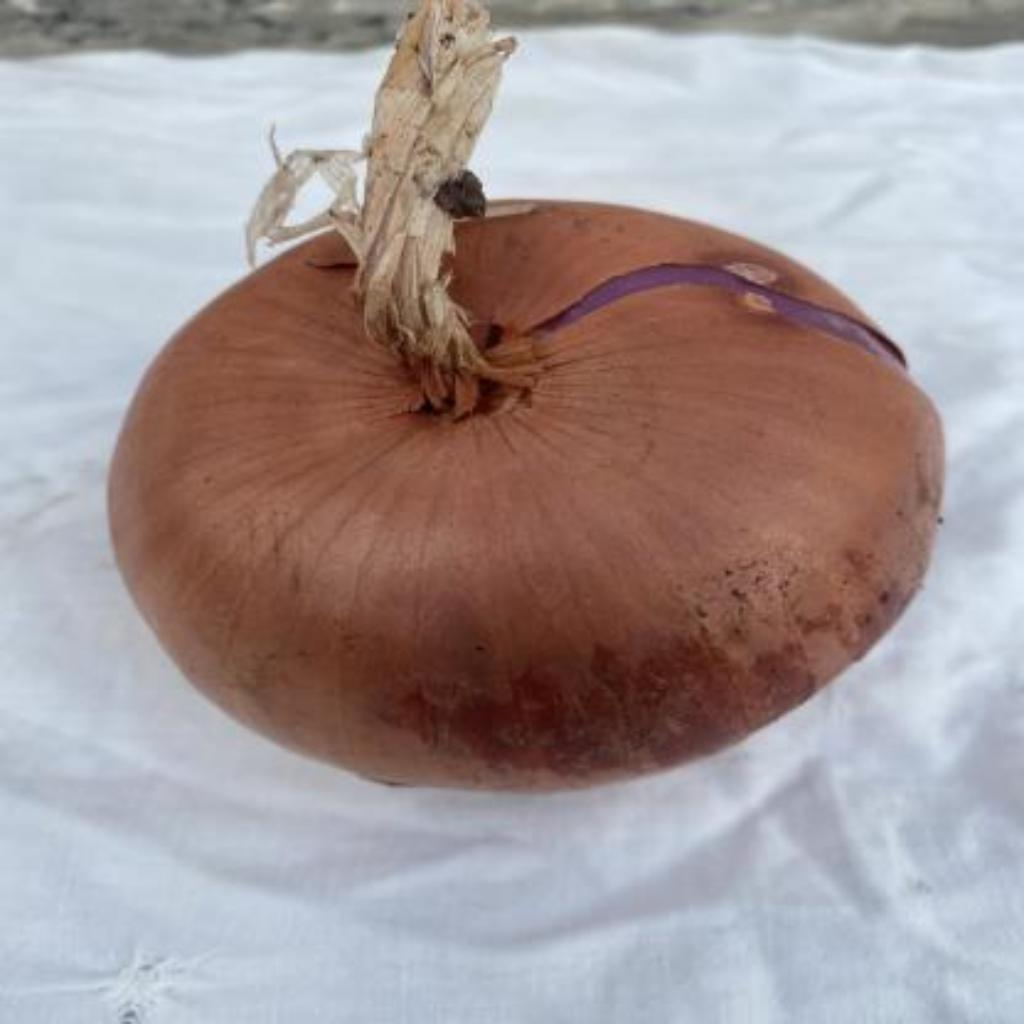Onion: (108, 0, 945, 791)
